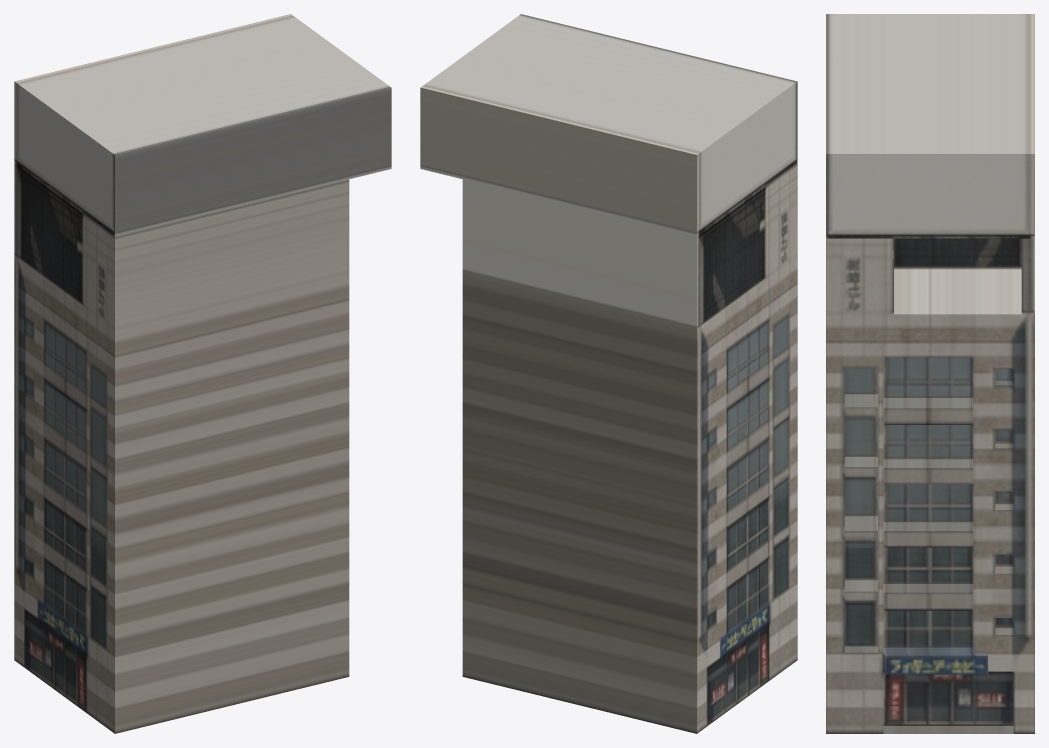
The model's file is Commercial 17.glb.
3 views of the same model, side by side, from view 1: azimuth 30°, elevation 25°; view 2: azimuth 150°, elevation 25°; view 3: azimuth 270°, elevation 25° (orthographic). The views are drawn at different scales.
Visible parts, largest first — view 1: Gemini_Generated_Image_kbtsylkbtsylkbts.001; view 2: Gemini_Generated_Image_kbtsylkbtsylkbts.001; view 3: Gemini_Generated_Image_kbtsylkbtsylkbts.001.
Boxes of the visible parts, bbox=[...] form: Gemini_Generated_Image_kbtsylkbtsylkbts.001: bbox=[14, 14, 391, 733]; Gemini_Generated_Image_kbtsylkbtsylkbts.001: bbox=[420, 14, 797, 733]; Gemini_Generated_Image_kbtsylkbtsylkbts.001: bbox=[826, 14, 1034, 733].
Size of the model in its own units: 0.1169 by 0.2339 by 0.0737.
1 material, 1 textured.
